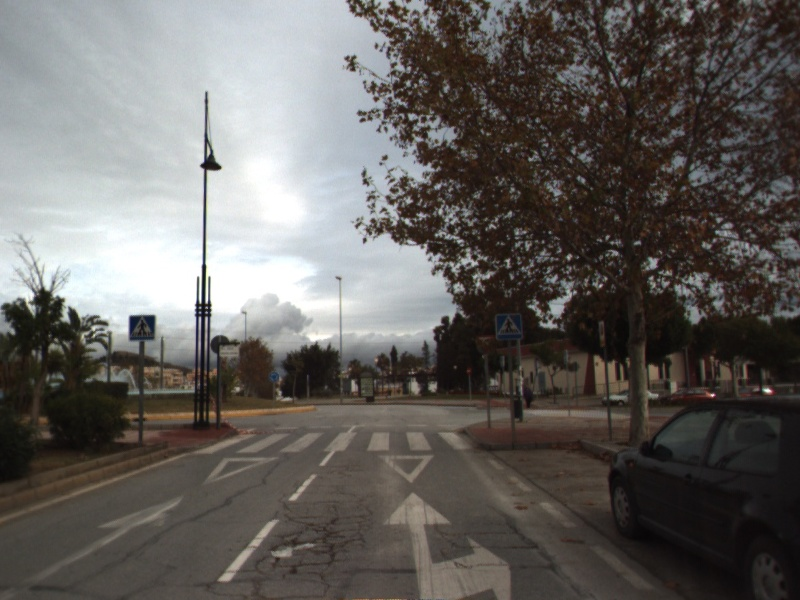STRAIGHT: (1, 492, 188, 600)
STRAIGHT_RIGHT: (380, 489, 514, 600)
